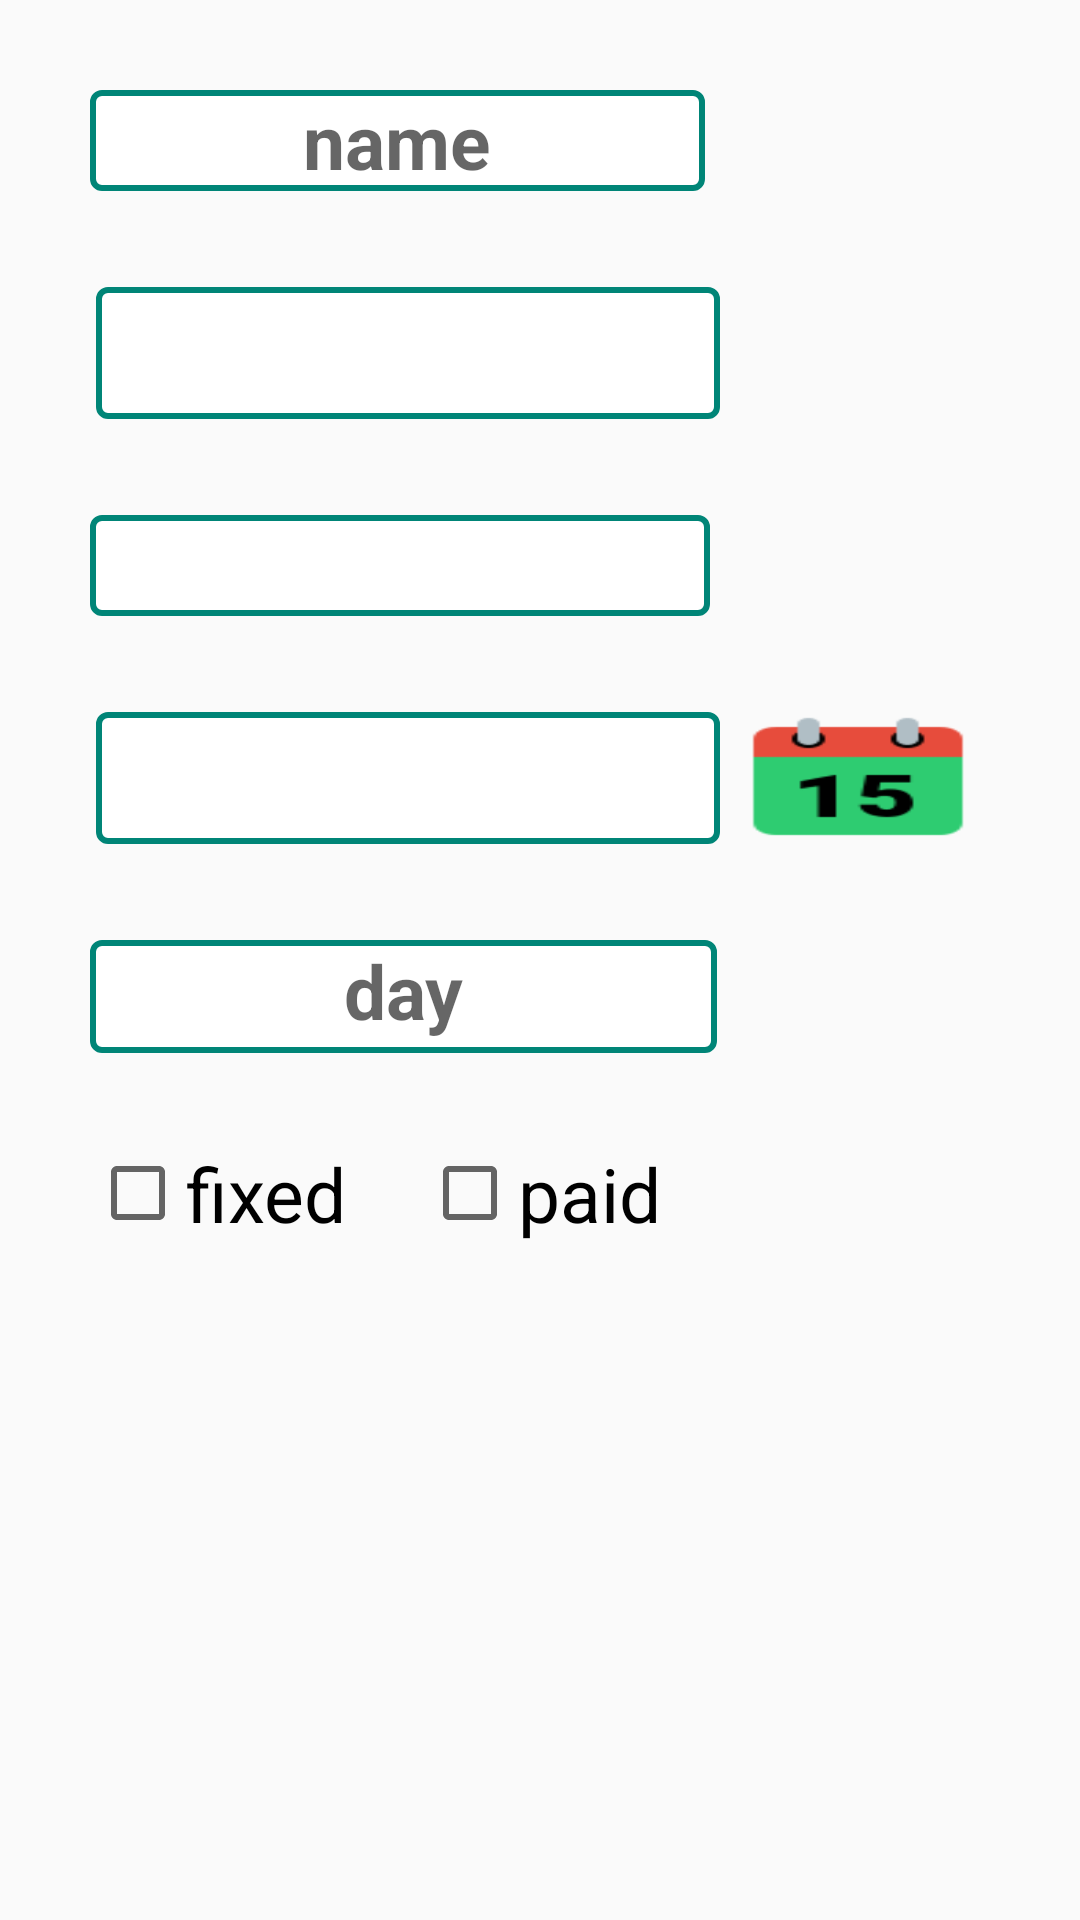

Screen size 1080px×1920px. Icon name, then its box in pixels as {"left": x1, "top": y1, "right": x2, "bottom": y2}:
calender: {"left": 752, "top": 718, "right": 964, "bottom": 836}
